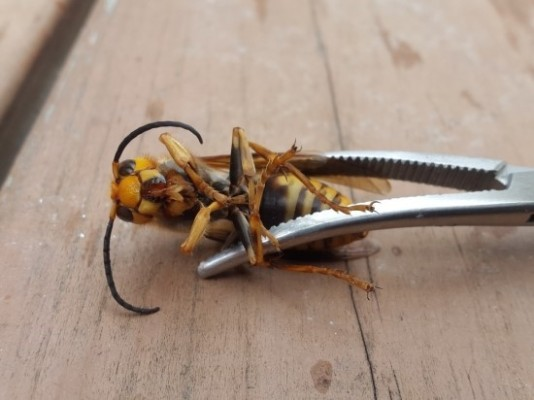asian_giant_hornet: (99, 112, 385, 295)
